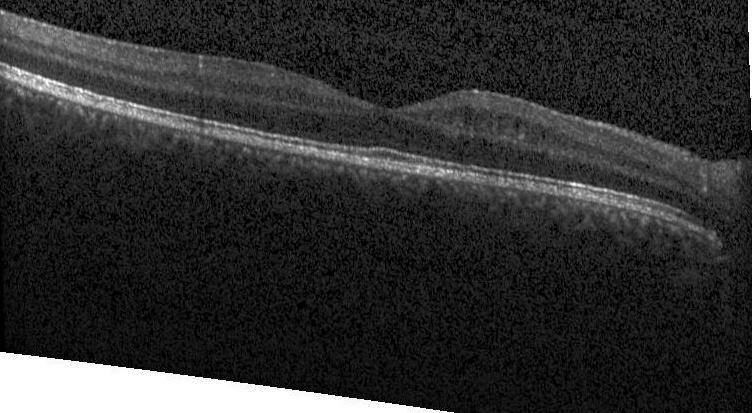intraretinal_cyst: (463, 106, 475, 126), (514, 116, 521, 132), (496, 113, 505, 121), (541, 128, 546, 139)
